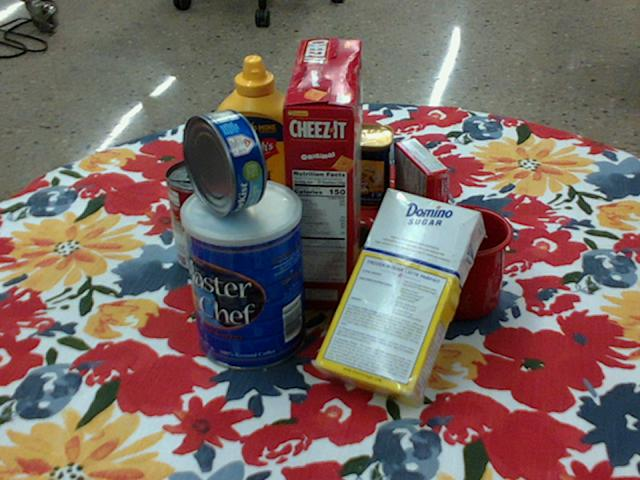cracker_box: (278, 40, 362, 310)
gelatin_box: (393, 136, 448, 230)
large_marker: (332, 77, 356, 127)
master_chef_can: (181, 180, 305, 373)
mug: (386, 203, 511, 320)
mustard_bottle: (211, 56, 306, 230)
potted_meat_can: (301, 122, 393, 209)
sugar_box: (313, 190, 484, 411)
tomato_soup_can: (165, 157, 239, 273)
tuna_fish_can: (181, 109, 266, 217)
